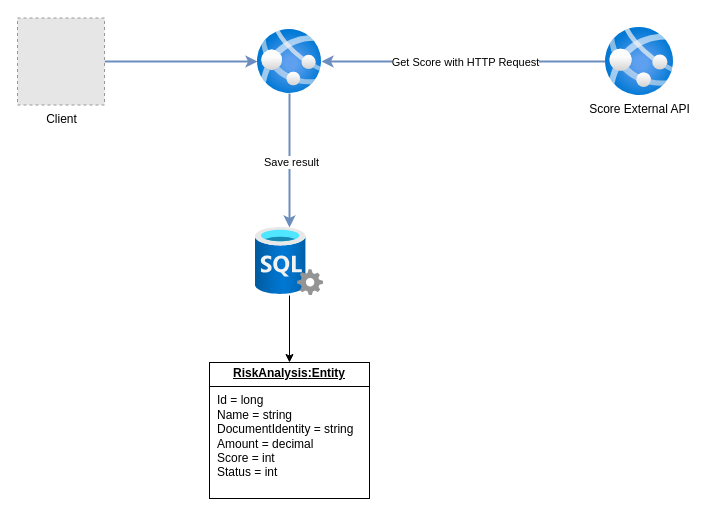
Image size: 707x516. Some labels were removed from this diagram. Grey dashed boxes stand in for pictures. The shapes that lost their labels are listed below. From the top down, each one's centre as x and y in pixels, then its label:
At (x=289, y=61): "RiskScore API".
At (x=289, y=261): "DB".
